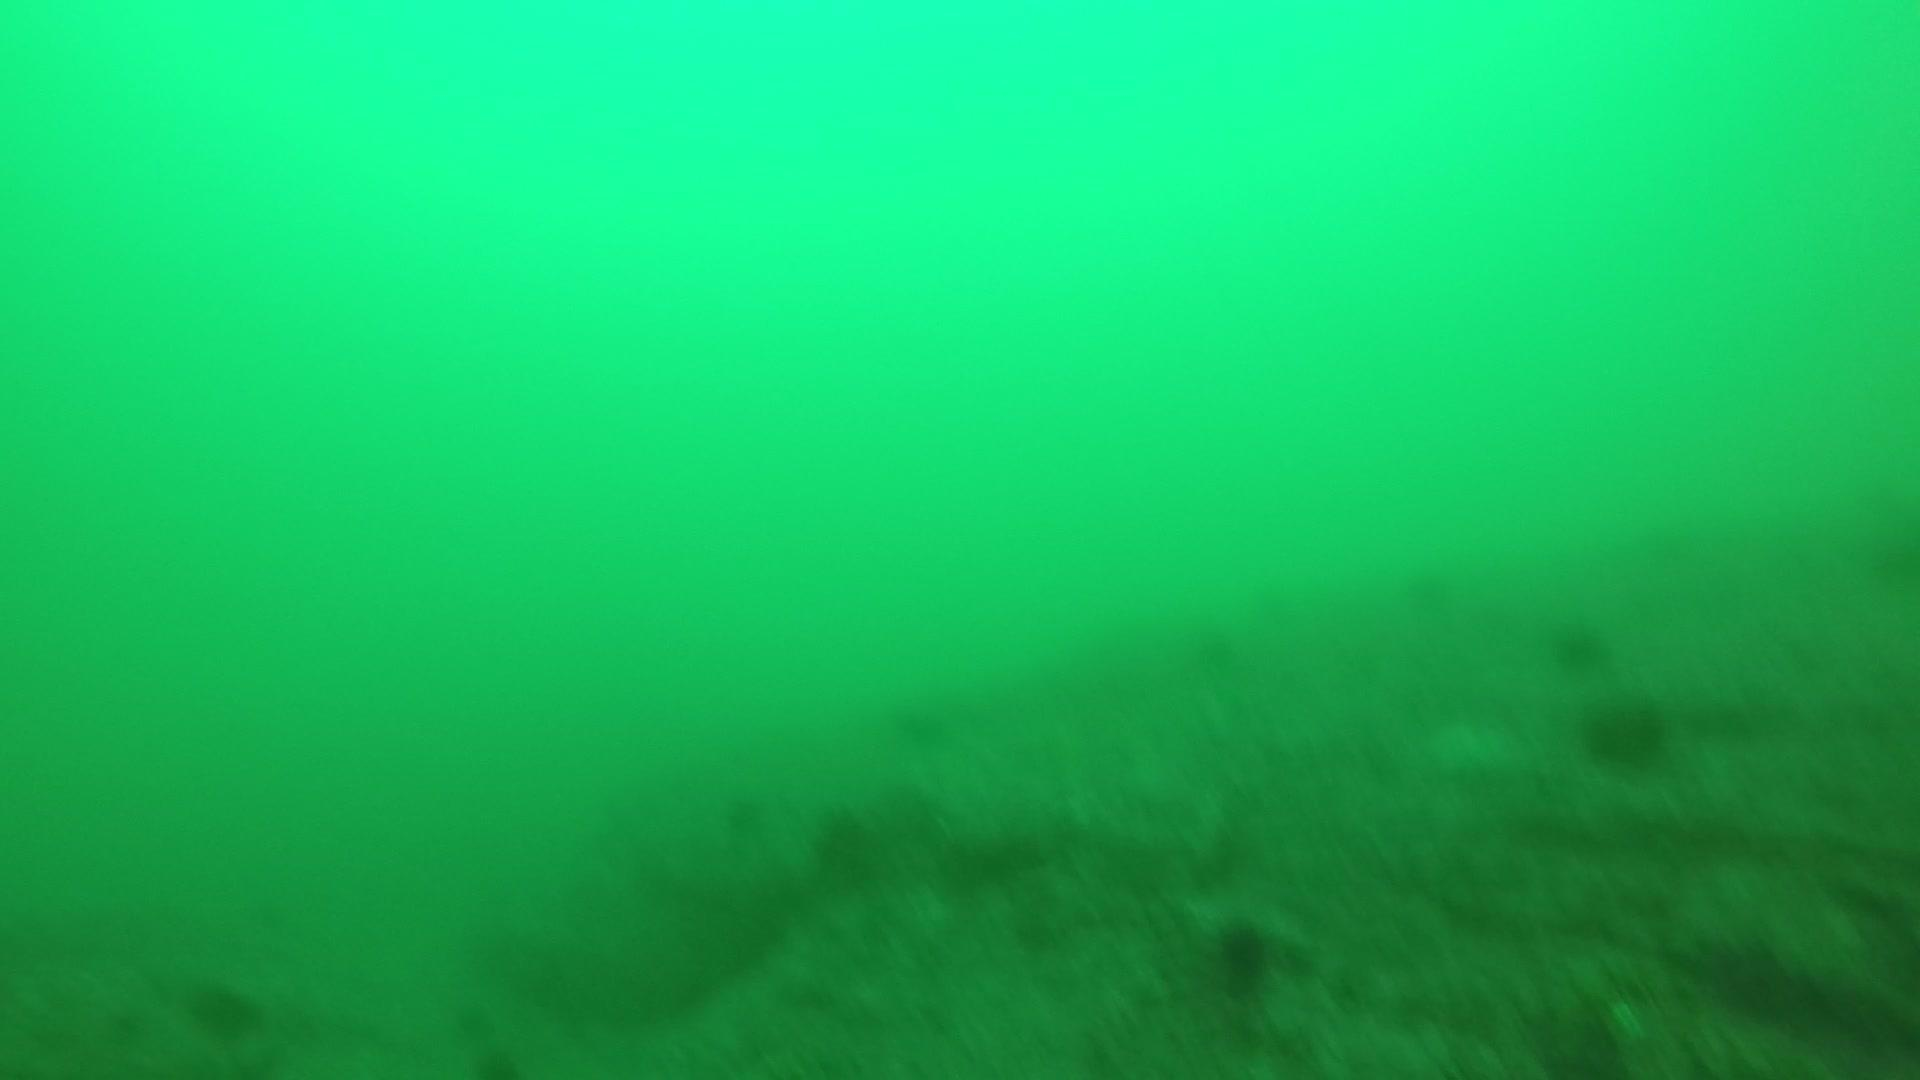echinus: (1578, 691, 1673, 773), (806, 803, 889, 887), (1204, 913, 1284, 996), (182, 972, 266, 1042), (1544, 612, 1615, 674), (465, 1046, 524, 1080)
